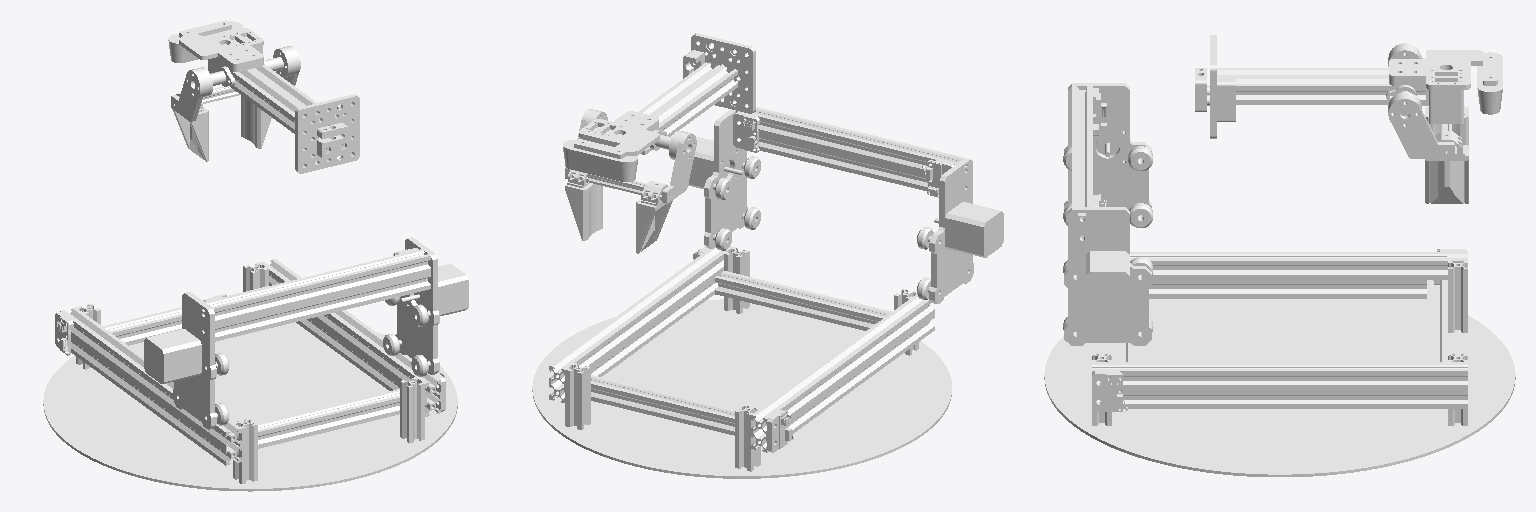
URDF robot description (Manipulator):
<?xml version="1.0"?>

<robot name="Manipulator">

  <!-- Materiales -->
  <material name="metal">
    <color rgba="1.0 1.0 1.0 1.0"/>
  </material>

  <material name="grey">
    <color rgba="1.0 1.0 1.0 1.0"/>
  </material>
  
  <!-- Links -->

  <!-- Base de aluminio -->
  <link name="AluminumBase_link">    
    <visual>
      <geometry>
        <mesh filename="package://manipulator_description/meshes/AluminumBase.stl" scale="0.001 0.001 0.001"/>  
      </geometry>
      <material name="metal"/>
    </visual>
    <collision>
      <geometry>
        <mesh filename="package://manipulator_description/meshes/AluminumBase.stl" scale="0.001 0.001 0.001"/>  
      </geometry>
    </collision>
  </link>

  <!-- BaseFrame -->
  <link name="BaseFrame_link">
     <visual>
      <geometry>
        <mesh filename="package://manipulator_description/meshes/Manipulator_Base_Frame.stl" scale="0.001 0.001 0.001"/>  
      </geometry>
      <material name="metal"/>
    </visual>
    <collision>
      <geometry>
        <mesh filename="package://manipulator_description/meshes/Manipulator_Base_Frame.stl" scale="0.001 0.001 0.001"/>  
      </geometry>
    </collision>
  </link>
  
  <!-- Axis X -->
  <link name="AxisX_link">
    <visual> 
      <geometry>
        <mesh filename="package://manipulator_description/meshes/Manipulator_X_Carriage.stl" scale="0.001 0.001 0.001"/>  
      </geometry>
      <material name="metal"/>
    </visual>
    <collision>
      <geometry>
        <mesh filename="package://manipulator_description/meshes/Manipulator_X_Carriage.stl" scale="0.001 0.001 0.001"/>  
      </geometry>
    </collision>
  </link>

  <!-- Axis Y -->
  <link name="AxisY_link">
    <visual> 
      <geometry>
        <mesh filename="package://manipulator_description/meshes/Manipulator_Y_Carriage.stl" scale="0.001 0.001 0.001"/>  
      </geometry>
      <material name="grey"/>
    </visual>
    <collision>
      <geometry>
        <mesh filename="package://manipulator_description/meshes/Manipulator_Y_Carriage.stl" scale="0.001 0.001 0.001"/>  
      </geometry>
    </collision>
  </link>

  <!-- Axis Z -->
  <link name="AxisZ_link">
    <visual> 
      <geometry>
        <mesh filename="package://manipulator_description/meshes/Manipulator_Z_Carriage.stl" scale="0.001 0.001 0.001"/>  
      </geometry>
      <material name="metal"/>
    </visual>
    <collision>
      <geometry>
        <mesh filename="package://manipulator_description/meshes/Manipulator_Z_Carriage.stl" scale="0.001 0.001 0.001"/>  
      </geometry>
    </collision>
  </link>

  <!-- Claw Base -->
  <link name="ClawBase_link">
    <visual> 
      <geometry>
        <mesh filename="package://manipulator_description/meshes/Manipulator_Claw_Base.stl" scale="0.001 0.001 0.001"/>  
      </geometry>
      <material name="metal"/>
    </visual>
    <collision>
      <geometry>
        <mesh filename="package://manipulator_description/meshes/Manipulator_Claw_Base.stl" scale="0.001 0.001 0.001"/>  
      </geometry>
    </collision>
  </link>
  
  <!-- Claw Shovel Right -->
  <link name="ClawShovelR_link">
    <visual> 
      <geometry>
        <mesh filename="package://manipulator_description/meshes/Manipulador_Claw_Shovel.stl" scale="0.001 0.001 0.001"/>  
      </geometry>
      <material name="metal"/>
    </visual>
    <collision>
      <geometry>
        <mesh filename="package://manipulator_description/meshes/Manipulador_Claw_Shovel.stl" scale="0.001 0.001 0.001"/>  
      </geometry>
    </collision>
  </link>

  <!-- Claw Shovel Left -->
  <link name="ClawShovelL_link">
    <visual> 
      <geometry>
        <mesh filename="package://manipulator_description/meshes/Manipulador_Claw_Shovel.stl" scale="0.001 0.001 0.001"/>  
      </geometry>
      <material name="metal"/>
    </visual>
    <collision>
      <geometry>
        <mesh filename="package://manipulator_description/meshes/Manipulador_Claw_Shovel.stl" scale="0.001 0.001 0.001"/>  
      </geometry>
    </collision>
  </link>

  <!-- Joints -->
  <joint name="BaseFrame_joint" type="fixed">
    <parent link="AluminumBase_link"/>
    <child link="BaseFrame_link"/>
    <origin xyz="0.115 0.18 0.0" rpy ="0 0 3.1415 "/>
  </joint>

  <joint name="AxisX_joint" type="prismatic">
    <parent link="BaseFrame_link"/>
    <child link="AxisX_link"/>
    <origin xyz="-0.00475 0.25696 0.02" rpy="0 0 0"/>
    <axis xyz="0 1 0"/>
    <limit lower="-0.21592" upper="0.0" effort="10.0" velocity="0.5"/>
    <dynamics damping="0.7" friction="0.1"/>
  </joint>

  <joint name="AxisY_joint" type="prismatic">
    <parent link="AxisX_link"/>
    <child link="AxisY_link"/>
    <origin xyz="0.02504 0.056 0.081" rpy="0 0 0"/> 
    <axis xyz="1 0 0"/>
    <limit lower="0" upper="0.105" effort="10.0" velocity="0.5"/>
    <dynamics damping="0.5" friction="0.1"/>
  </joint>
  
  <joint name="AxisZ_joint" type="prismatic">
    <parent link="AxisY_link"/>
    <child link="AxisZ_link"/>
    <origin xyz="0.035 -0.05745 0.21389" rpy="0 0 0"/> 
    <axis xyz="0 0 1"/>
    <limit lower="-0.18" upper="0" effort="5.0" velocity="0.3"/>
    <dynamics damping="0.3" friction="0.05"/>
  </joint>

  <joint name="ClawBase_joint" type="fixed">
    <parent link="AxisZ_link"/>
    <child  link="ClawBase_link"/>
    <origin xyz="-0.01 -0.24 0.03" rpy ="0 0 0 "/>
  </joint>

  <joint name="ClawShovelR_joint" type="prismatic">
    <parent   link="ClawBase_link"/>
    <child    link="ClawShovelR_link"/>
    <origin   xyz="-0.0357 -0.04494 -0.04010" rpy="0 0 0"/> 
    <axis     xyz="1 0 0"/>
    <limit    lower="0" upper="0.020" effort="5.0" velocity="0.3"/>
    <dynamics damping="0.3" friction="0.05"/>
  </joint>
  
  <joint name="ClawShovelL_joint" type="prismatic">
    <parent   link="ClawBase_link"/>
    <child    link="ClawShovelL_link"/>
    <origin   xyz="0.0557 0.0549 -0.04010" rpy="0 0 3.141516"/> 
    <axis     xyz="1 0 0"/>
    <limit    lower="0" upper="0.020" effort="5.0" velocity="0.3"/>
    <dynamics damping="0.3" friction="0.05"/>
  </joint>


</robot>

--- Facts derived from the render (not from the file) ---
Views: 3 orthographic renders of the robot side by side, from view 1: azimuth 30°, elevation 25°; view 2: azimuth 150°, elevation 25°; view 3: azimuth 270°, elevation 25°.
Robot: Manipulator — 8 links, 7 joints (5 prismatic, 2 fixed); root link AluminumBase_link; default pose: every joint at zero.
Links seen in each view (by area): view 1: AluminumBase_link, BaseFrame_link, AxisY_link, AxisZ_link, ClawBase_link, ClawShovelL_link, ClawShovelR_link; view 2: AluminumBase_link, BaseFrame_link, AxisY_link, ClawBase_link, AxisZ_link, ClawShovelR_link, ClawShovelL_link; view 3: AluminumBase_link, BaseFrame_link, AxisY_link, ClawBase_link, AxisZ_link, ClawShovelR_link.
Link boxes in pixels (bbox=[...]): AluminumBase_link: bbox=[43, 322, 457, 491]; BaseFrame_link: bbox=[55, 259, 445, 483]; AxisY_link: bbox=[144, 237, 468, 429]; AxisZ_link: bbox=[218, 62, 359, 173]; ClawBase_link: bbox=[168, 20, 300, 121]; ClawShovelL_link: bbox=[172, 93, 208, 161]; ClawShovelR_link: bbox=[241, 95, 271, 148]; AluminumBase_link: bbox=[532, 299, 951, 478]; BaseFrame_link: bbox=[549, 246, 934, 471]; AxisY_link: bbox=[688, 107, 1003, 303]; ClawBase_link: bbox=[563, 109, 696, 203]; AxisZ_link: bbox=[639, 33, 755, 154]; ClawShovelR_link: bbox=[565, 170, 602, 240]; ClawShovelL_link: bbox=[636, 181, 672, 253]; AluminumBase_link: bbox=[1044, 299, 1515, 476]; BaseFrame_link: bbox=[1092, 249, 1467, 425]; AxisY_link: bbox=[1063, 83, 1152, 345]; ClawBase_link: bbox=[1386, 43, 1502, 158]; AxisZ_link: bbox=[1195, 35, 1425, 138]; ClawShovelR_link: bbox=[1425, 131, 1468, 203].
Size in the robot's own frame: 0.45 by 0.4499 by 0.3735 metres.
Meshes: 7 distinct files referenced, 7 mesh visuals loaded (6 binary STL); not drawn: 1 (reference not matched to a file when rendering).
